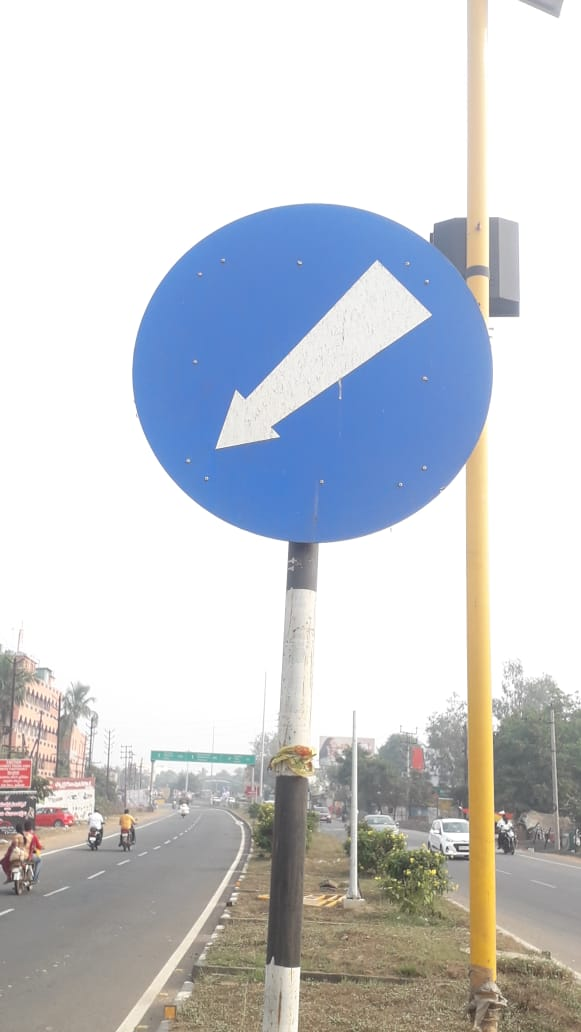go left: (115, 191, 496, 559)
